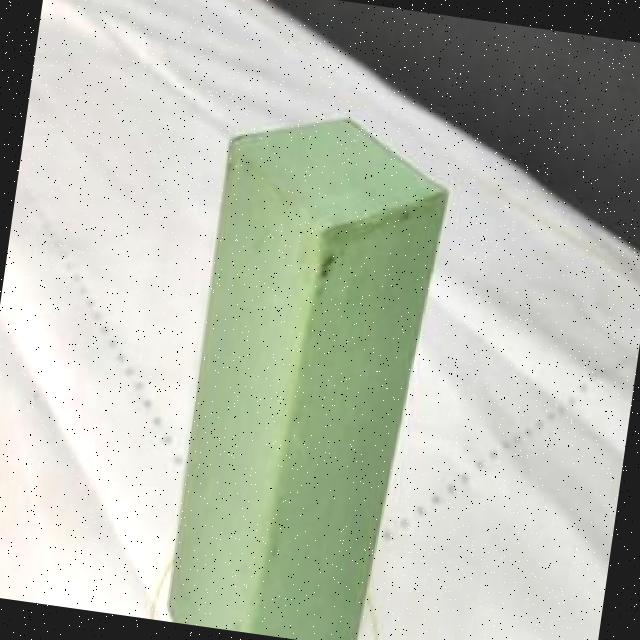greenbox: (156, 94, 459, 640)
